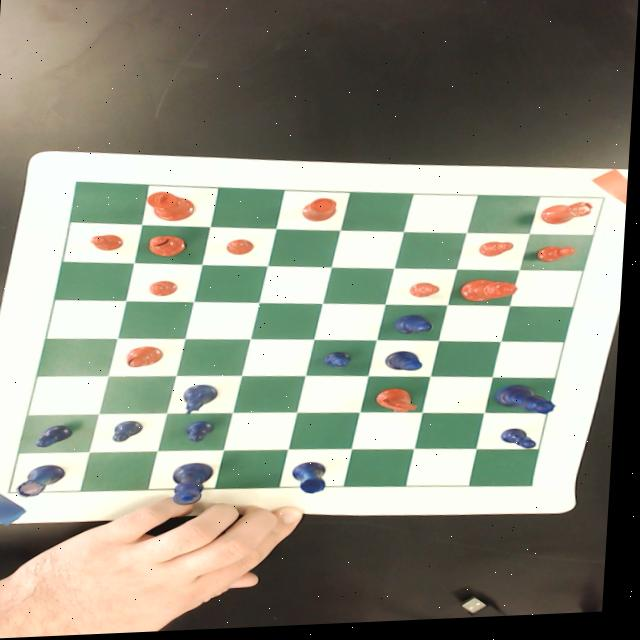B: (389, 354, 428, 377), (399, 318, 436, 339)
K: (174, 464, 220, 508)
N: (185, 387, 223, 417)
P: (38, 425, 79, 448), (504, 432, 543, 456), (116, 422, 149, 444), (189, 423, 220, 446), (326, 353, 357, 372)
Q: (498, 388, 562, 422)
R: (21, 465, 73, 498), (295, 465, 333, 498)
b: (151, 236, 190, 259), (128, 348, 168, 369)
k: (147, 193, 199, 224)
n: (379, 391, 424, 418)
p: (537, 251, 581, 268), (481, 245, 518, 263), (92, 235, 128, 253), (411, 286, 444, 303), (152, 282, 183, 299), (228, 242, 259, 258)
q: (462, 282, 522, 307)
r: (540, 206, 599, 232), (301, 200, 341, 226)
